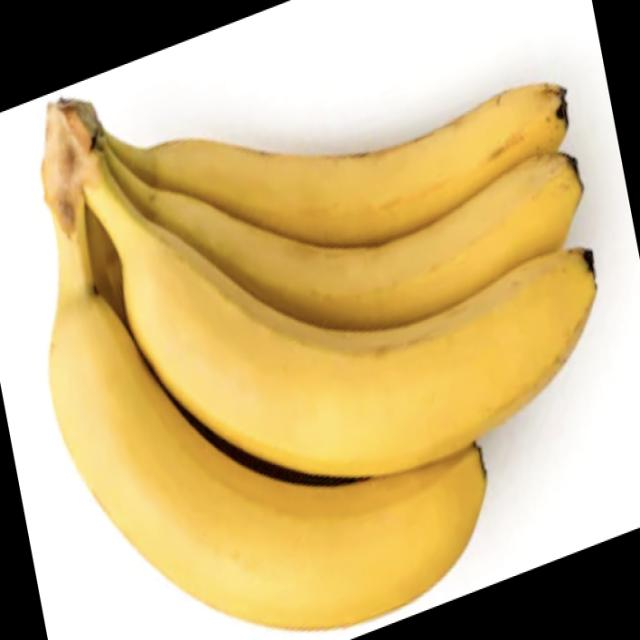banana: (15, 61, 605, 635)
